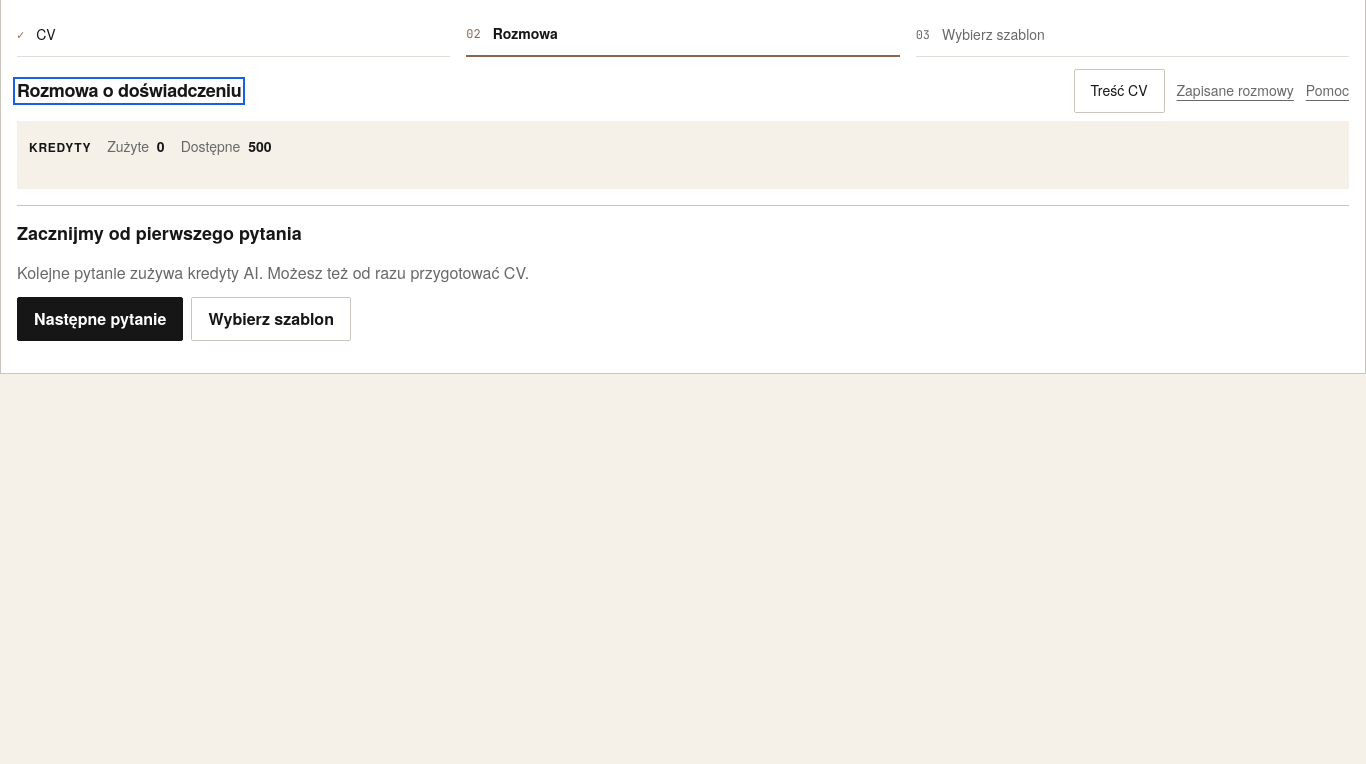
Scenario: interview task navigation › keeps a multi-page generation on the preview with the automatic one-page comparison instead of saving past it
Step 1. Click the button "Wybierz szablon" → (271, 319), box [191,297,351,341]
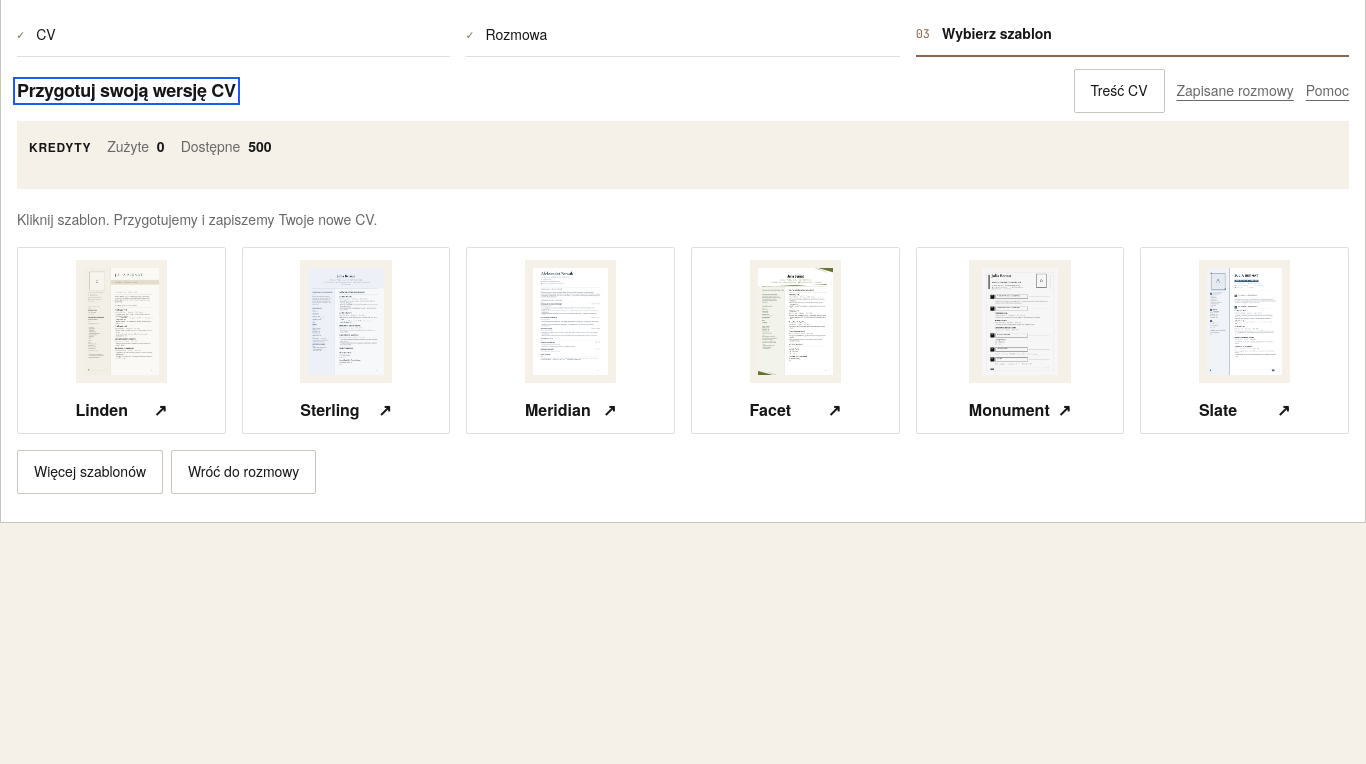
Step 2. Click the button with aria-label "Utwórz CV · Linden" → (121, 340), box [17,247,226,434]
(page scrolled)
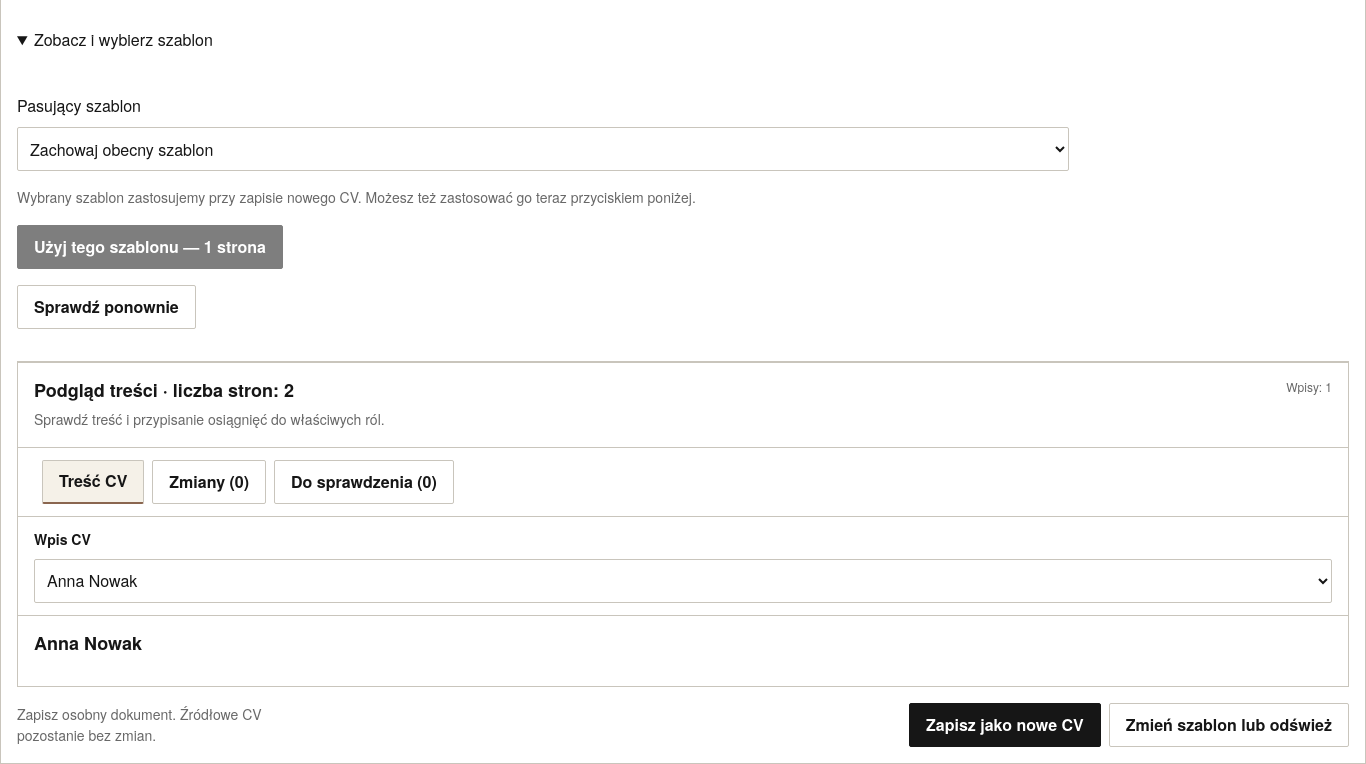
Expected: the dropdown labelled "Pasujący szablon" is shown, [17,127,1069,171]
Expected: the button "Zapisz jako nowe CV" is enabled, [909,703,1101,747]
